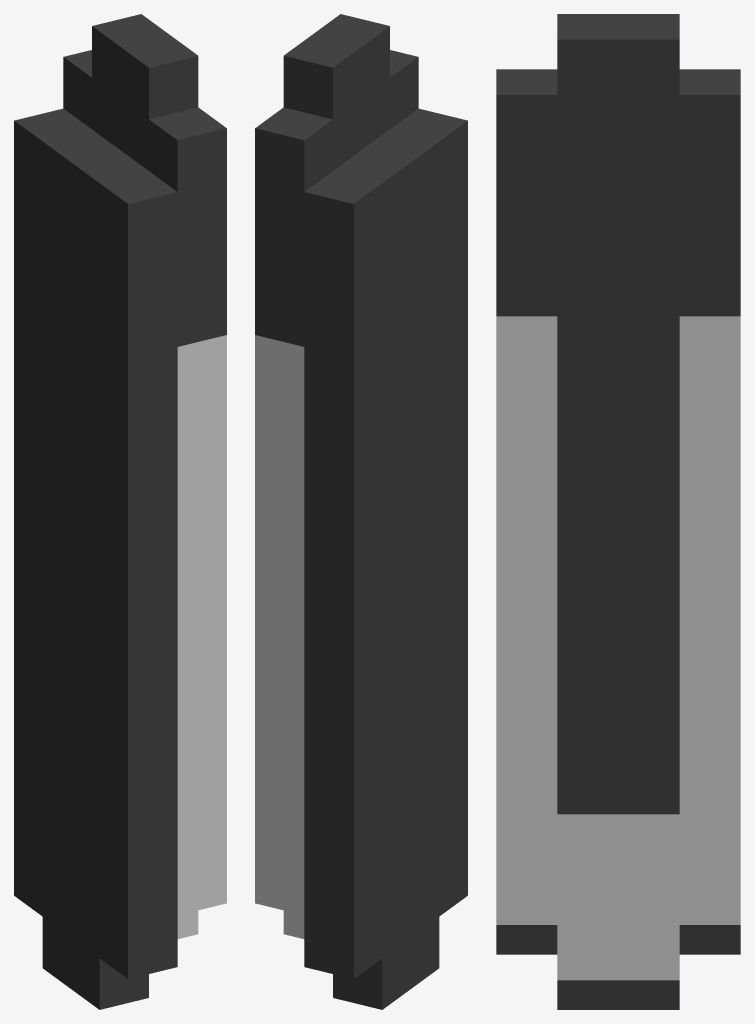
Rendered from penguin06_rightArm.obj.
3 renders of one model, left to right at view 1: azimuth 30°, elevation 25°; view 2: azimuth 150°, elevation 25°; view 3: azimuth 270°, elevation 25°, orthographic. The views are drawn at different scales.
Bounding box in the file's own units: 0.2 × 1.8 × 0.4.
Materials: 1 (1 with a texture image).
